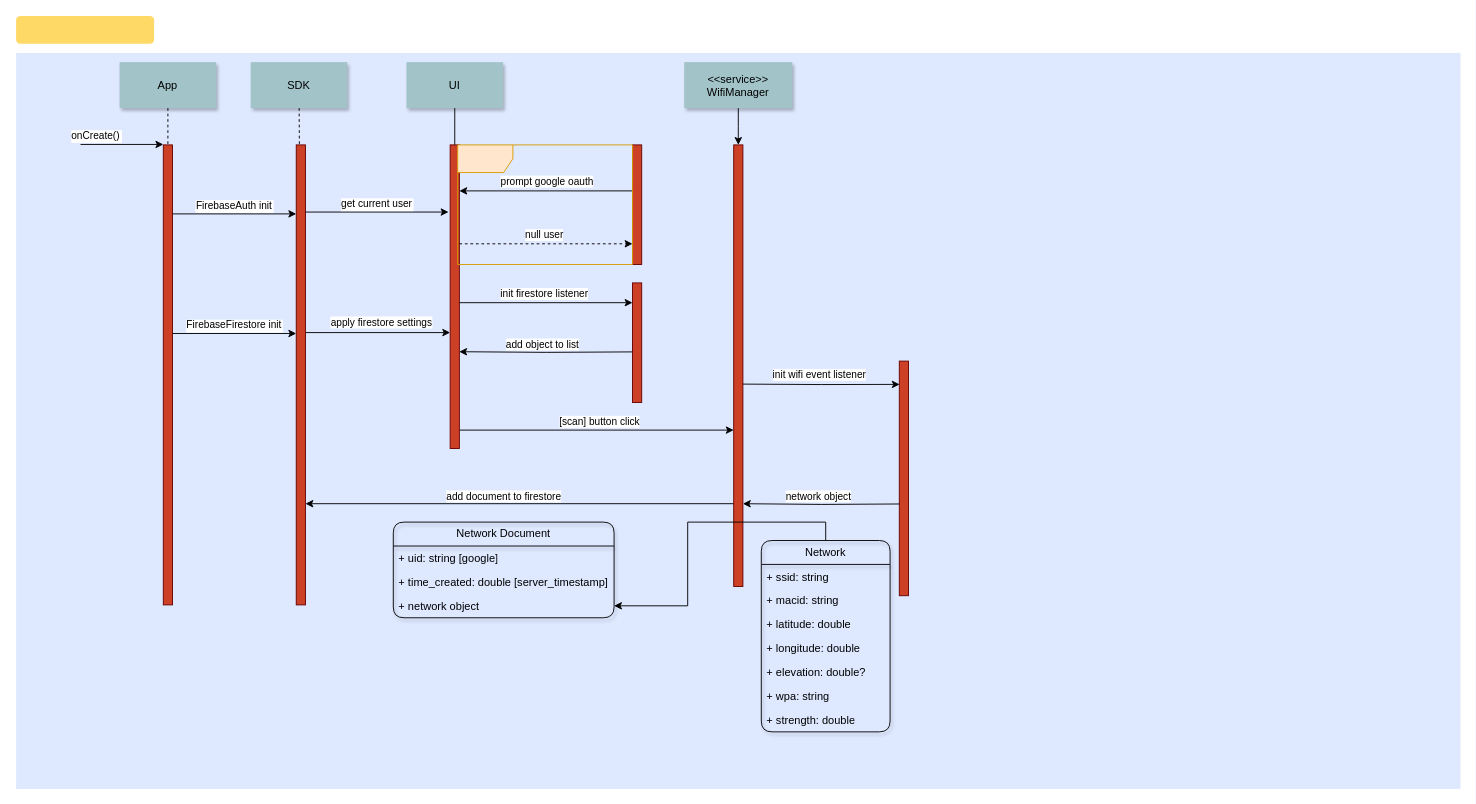
Image size: 1476x804. Some labels were removed from this diagram. Here are the shapes that lost their labels. From the top down, the centre of each, then its label:
the point at 85,29: MainActivity
the point at 544,204: condition
